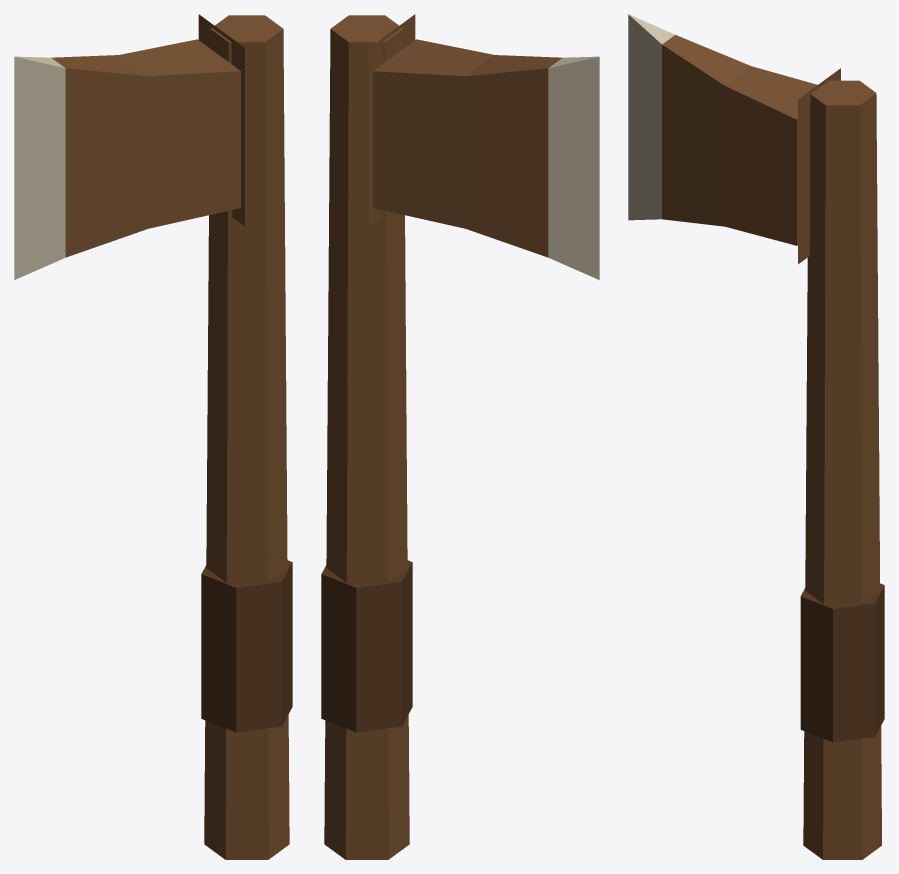
The model's file is wpn_axe_wood_01.fbx.
The picture shows the model from 3 angles, left to right: view 1: azimuth 30°, elevation 25°; view 2: azimuth 150°, elevation 25°; view 3: azimuth 330°, elevation 25°; orthographic projection. The views are drawn at different scales.
Visible parts, largest first — view 1: wpn_axe_wood_01; view 2: wpn_axe_wood_01; view 3: wpn_axe_wood_01.
Boxes of the visible parts, x1,y1,x2,y2 form: wpn_axe_wood_01: [14, 14, 292, 859]; wpn_axe_wood_01: [321, 14, 599, 859]; wpn_axe_wood_01: [628, 14, 884, 859].
Size of the model in its own units: 0.2171 by 0.064 by 0.642.
